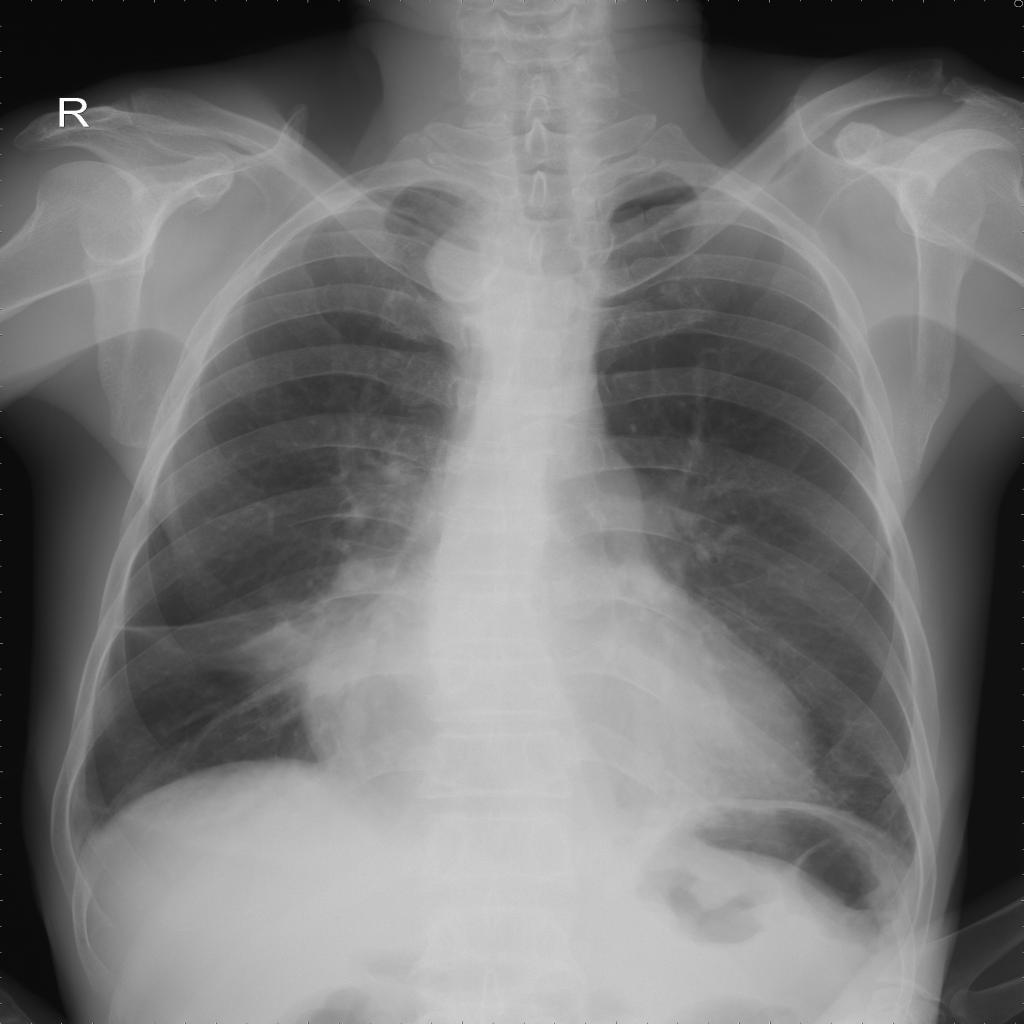Nodule: (422, 211, 508, 304)
